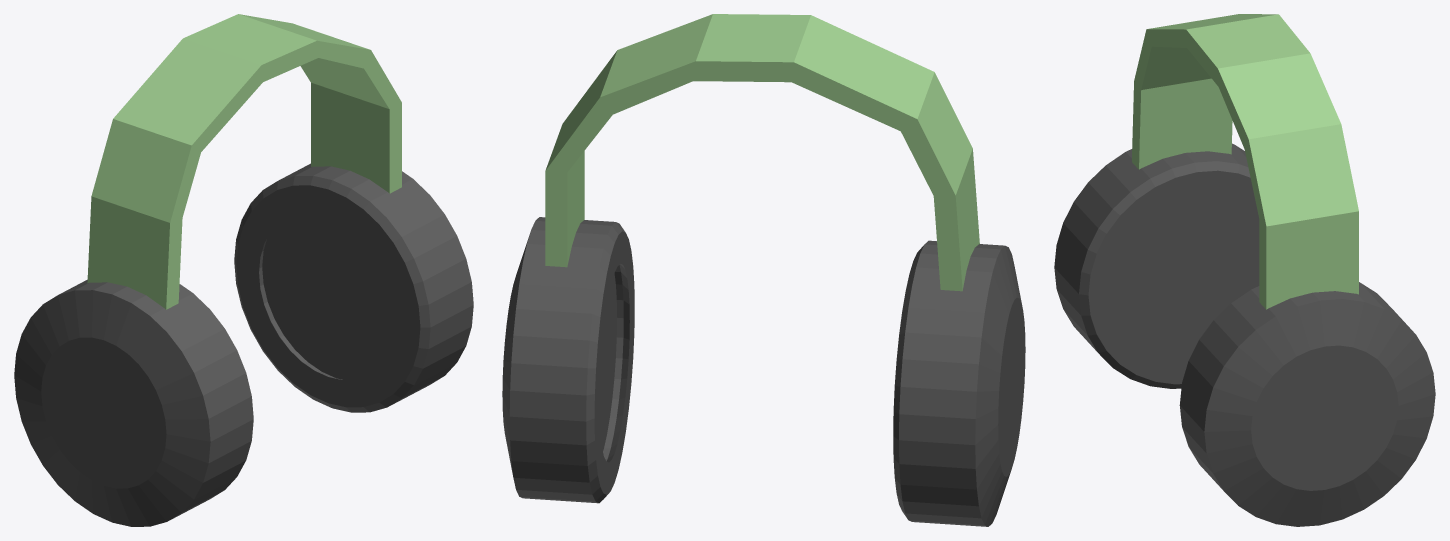
3 views of the same model, side by side, from view 1: azimuth 30°, elevation 25°; view 2: azimuth 150°, elevation 25°; view 3: azimuth 270°, elevation 25° (orthographic). The views are drawn at different scales.
Visible parts, largest first — view 1: Cylinder.004; view 2: Cylinder.004; view 3: Cylinder.004.
Boxes of the visible parts, x1,y1,x2,y2 form: Cylinder.004: (14, 14, 473, 526); Cylinder.004: (502, 14, 1025, 526); Cylinder.004: (1054, 14, 1435, 526).
Size of the model in its own units: 116 by 110 by 92.98.
